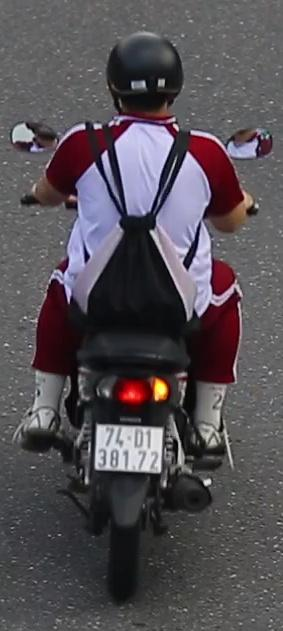LP: (92, 417, 166, 477)
helmet: (100, 30, 193, 135)
